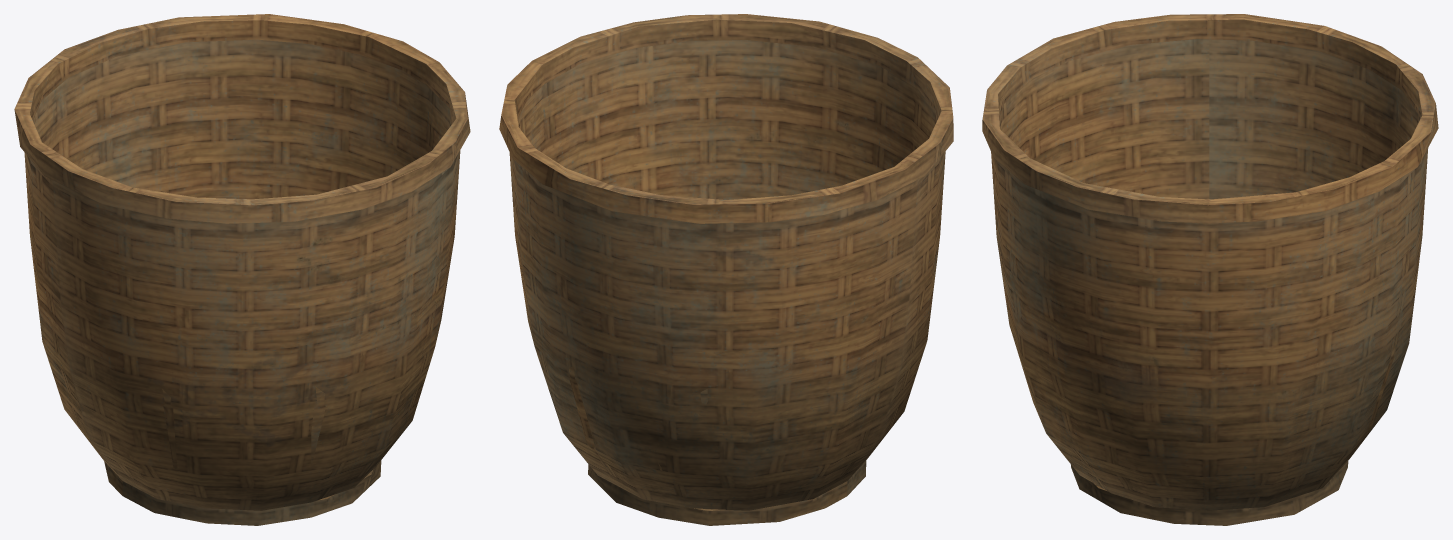
Rendered from SM_basket_01.fbx.
3 views of the same model, side by side, from view 1: azimuth 30°, elevation 25°; view 2: azimuth 150°, elevation 25°; view 3: azimuth 270°, elevation 25° (orthographic).
Visible parts, largest first — view 1: SM_basket_01_LOD0; view 2: SM_basket_01_LOD0; view 3: SM_basket_01_LOD0.
Part boxes in pixels (x1,y1,x2,y2): SM_basket_01_LOD0: (14, 14, 470, 525); SM_basket_01_LOD0: (499, 14, 953, 525); SM_basket_01_LOD0: (982, 14, 1438, 525).
Size of the model in its own units: 64.91 by 64.95 by 56.29.
Materials: 1 (1 with a texture image).
